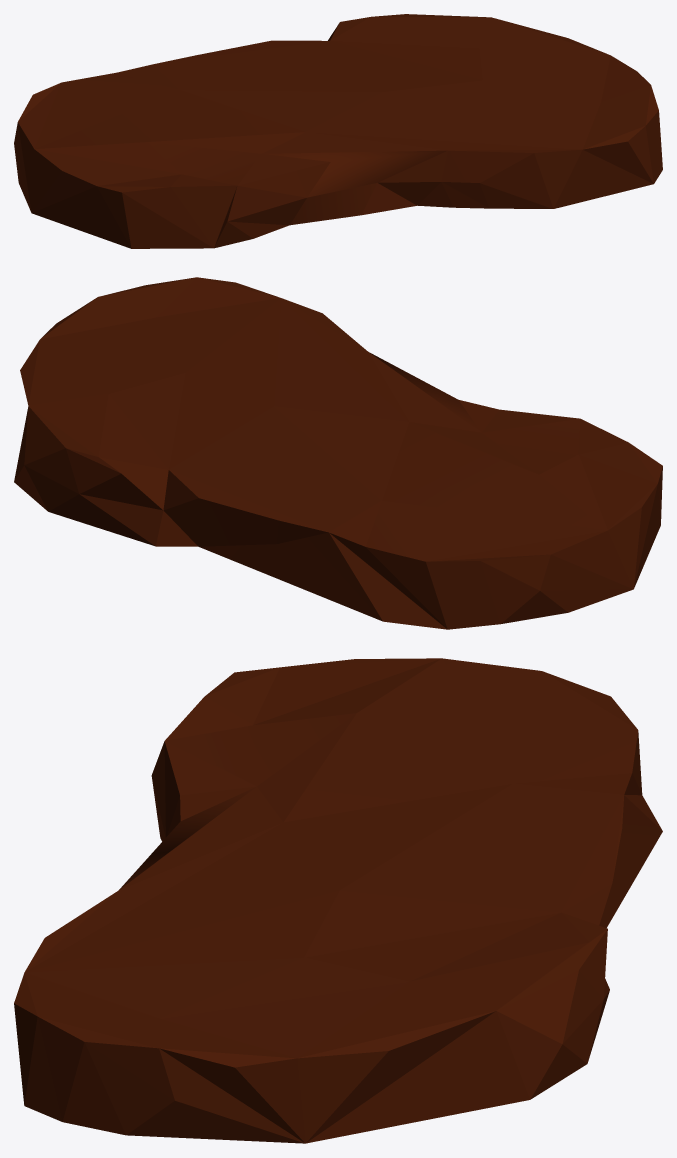
The model's file is ElevatedGround_7.fbx.
3 renders of one model, top to bottom at view 1: azimuth 30°, elevation 25°; view 2: azimuth 150°, elevation 25°; view 3: azimuth 270°, elevation 25°, orthographic. The views are drawn at different scales.
Parts seen in each view (by area): view 1: ElevatedGround_7; view 2: ElevatedGround_7; view 3: ElevatedGround_7.
Boxes of the visible parts, x1,y1,x2,y2 form: ElevatedGround_7: (14,14,662,248); ElevatedGround_7: (14,277,662,629); ElevatedGround_7: (14,658,662,1143).
Bounding box in the file's own units: 2290 × 241 × 1522.
